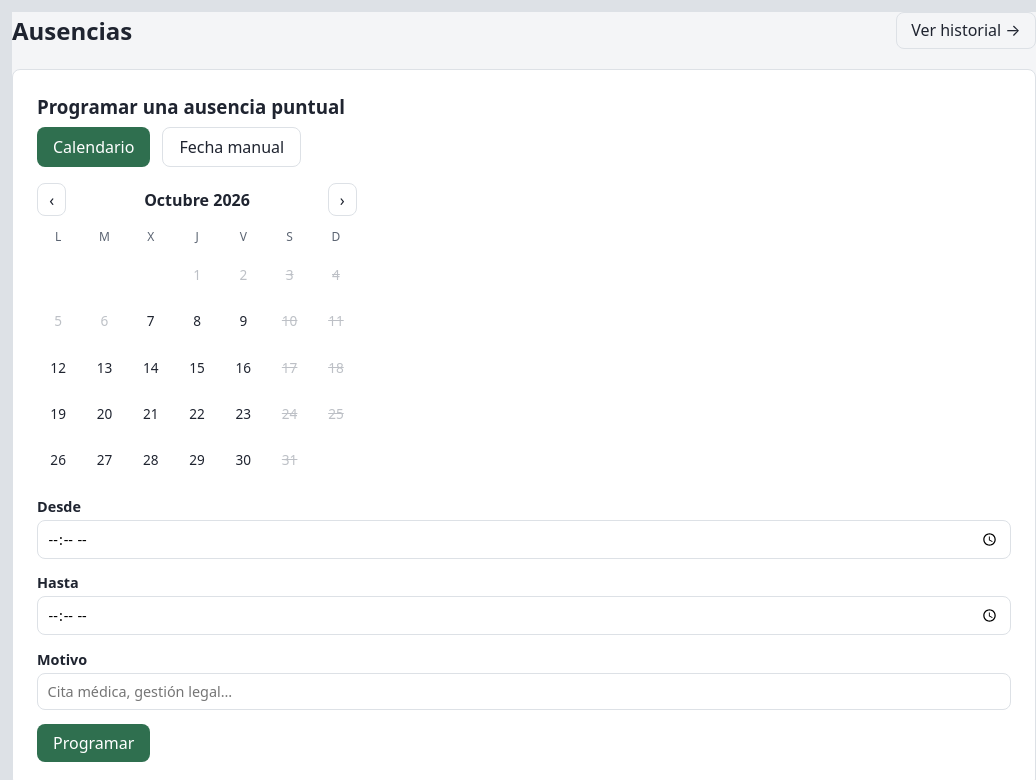
Test: WorkerAbsences › usa un mensaje genérico si el error al programar una ausencia no es un ApiError
Click the button "7" at (151, 321), box left=130, top=300, right=172, bottom=342
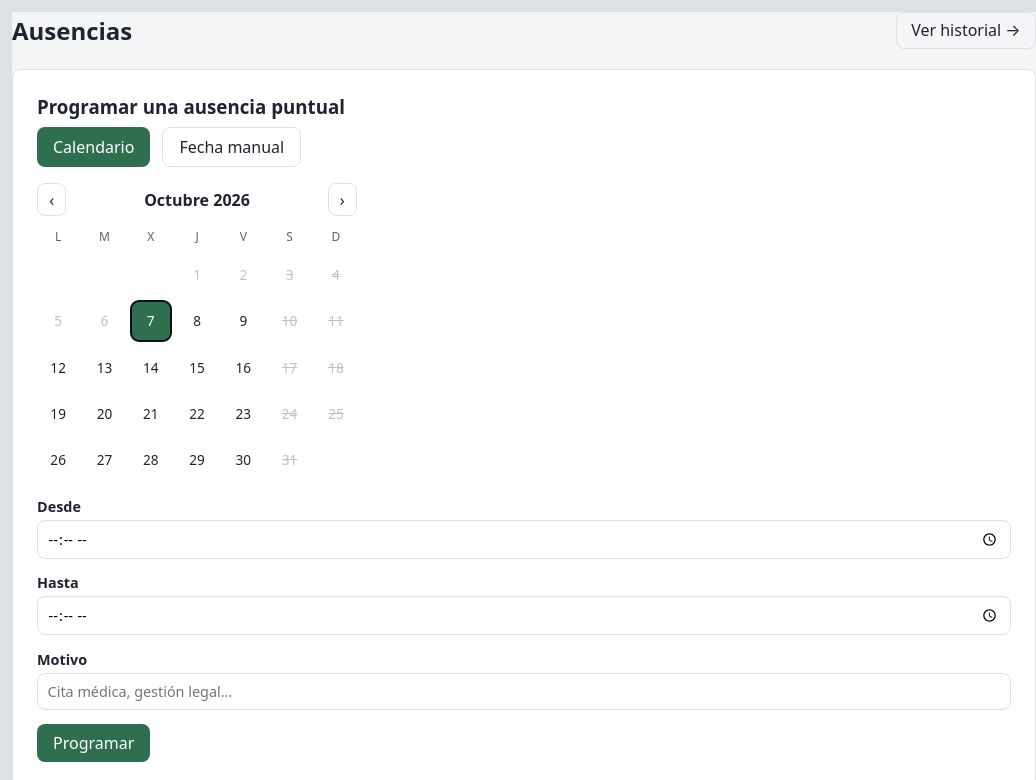
Type "09:00" into the time field labelled "Desde" at (524, 539), box left=37, top=520, right=1011, bottom=559
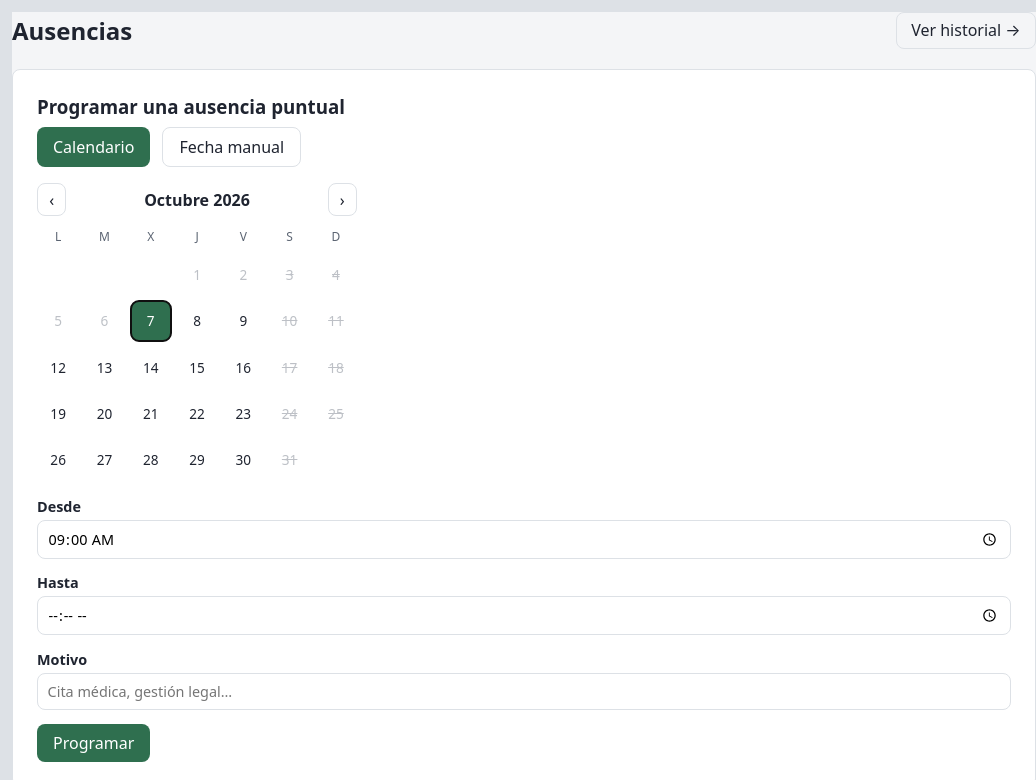
Type "09:30" into the time field labelled "Hasta" at (524, 616), box left=37, top=596, right=1011, bottom=636
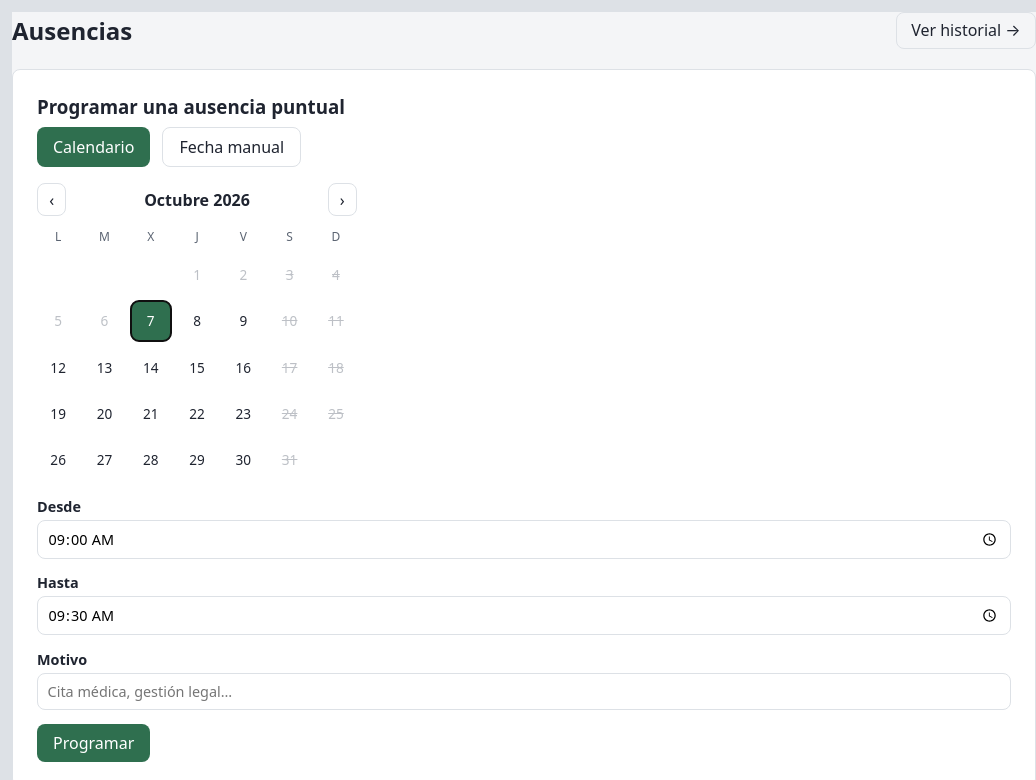
Type "Gestión legal" into the field labelled "Motivo" at (524, 691), box left=37, top=673, right=1011, bottom=710
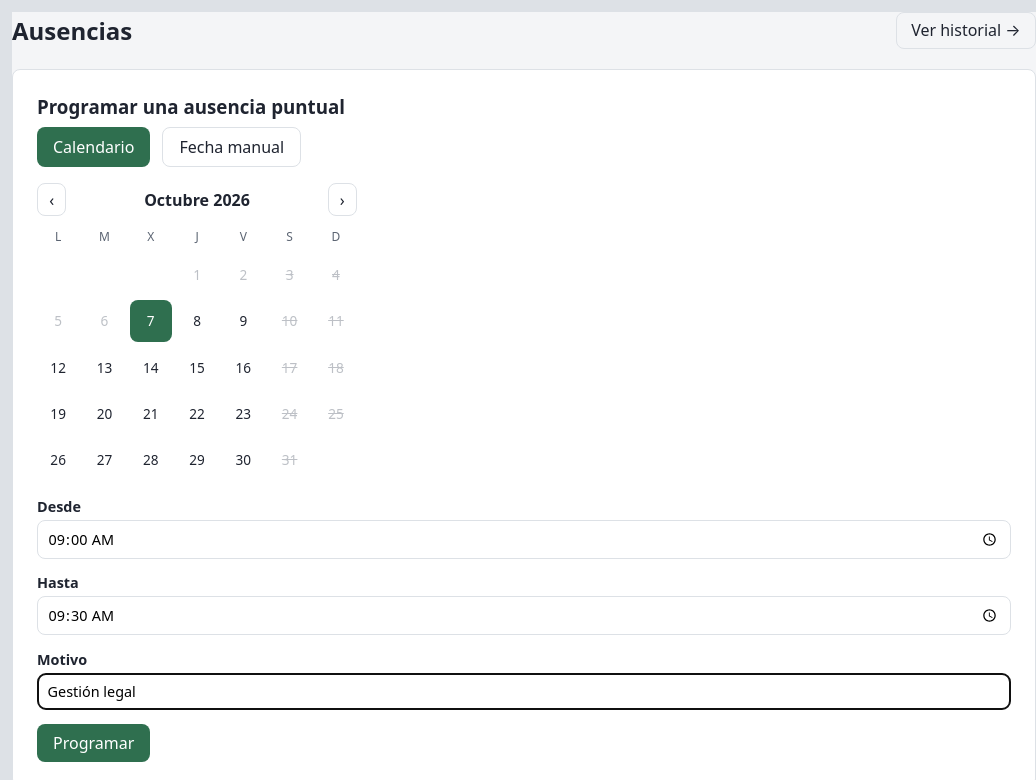
Click the button "Programar" at (94, 743), box left=37, top=724, right=150, bottom=762
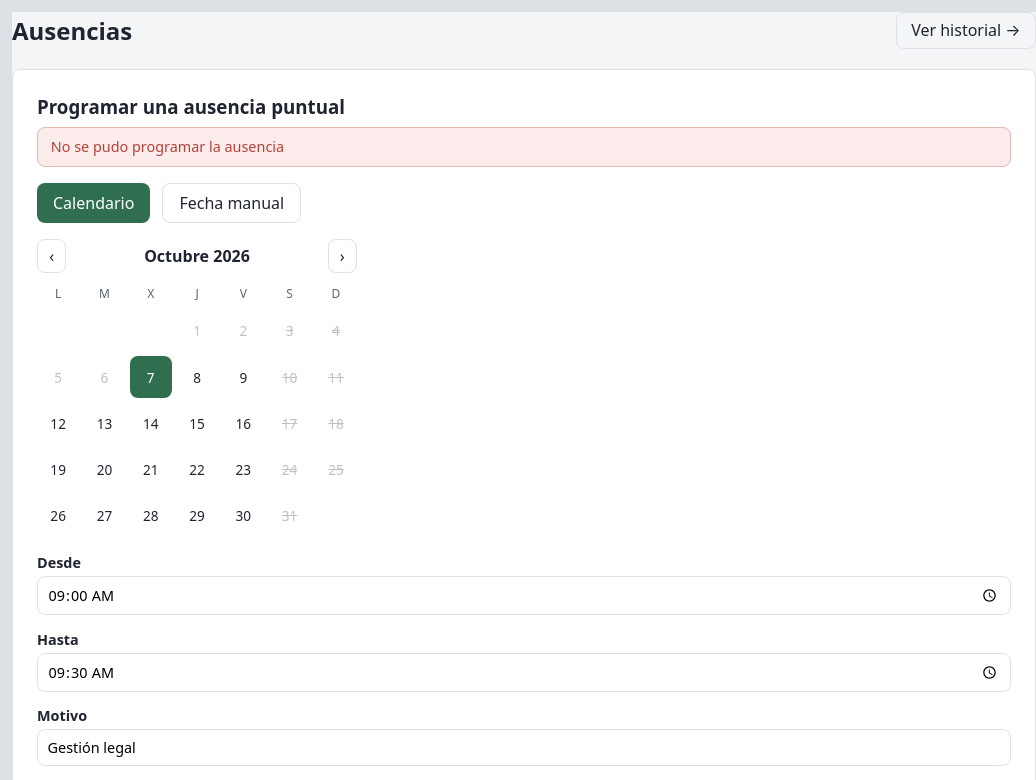
Expected: the text "No se pudo programar la ausencia" is shown, left=37, top=127, right=1011, bottom=167
